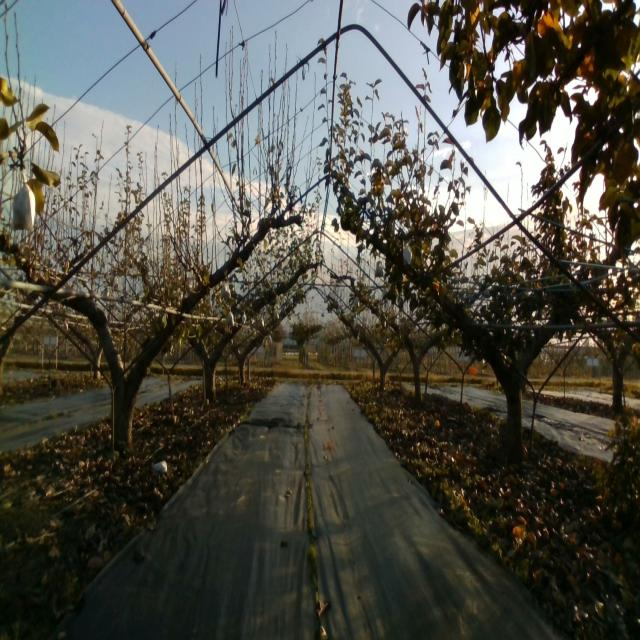pearbags: (9, 178, 36, 233)
